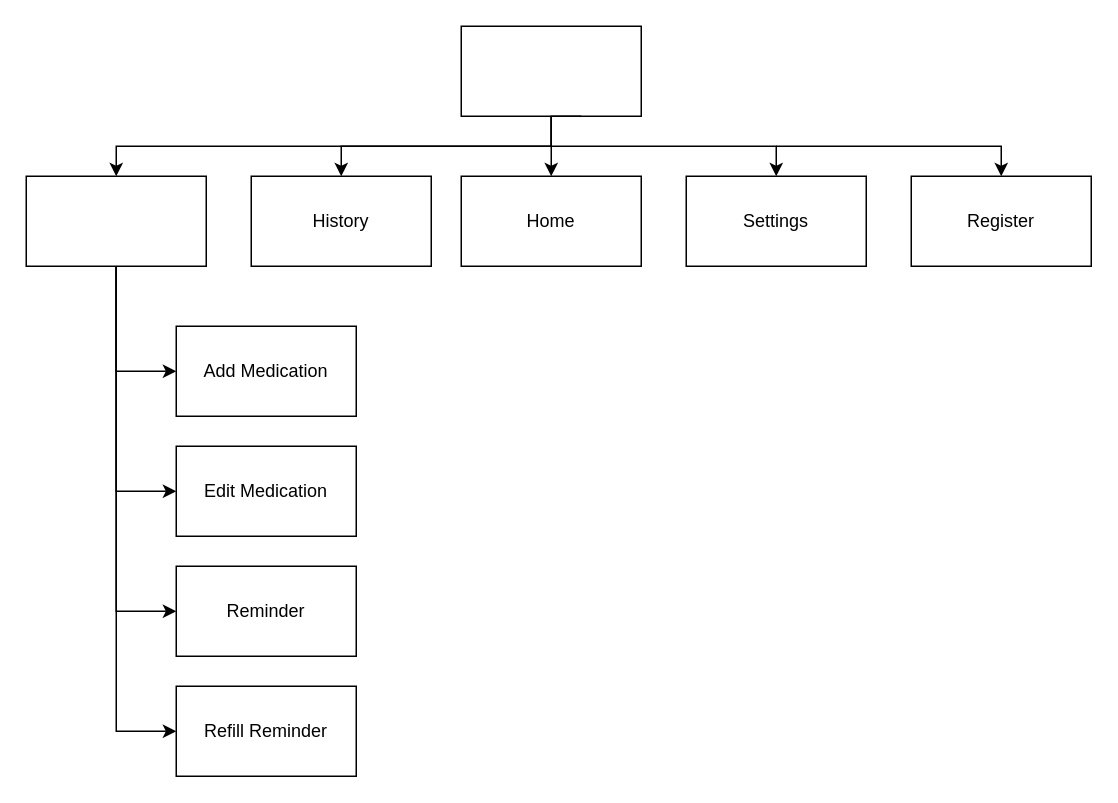
Image size: 1118x803. Some labels were removed from this diagram. The box of each missing label's shape, as (x1, y1, x2, y2) in pixels:
Medications: (25, 175, 206, 266)
Sign in: (460, 25, 641, 116)
